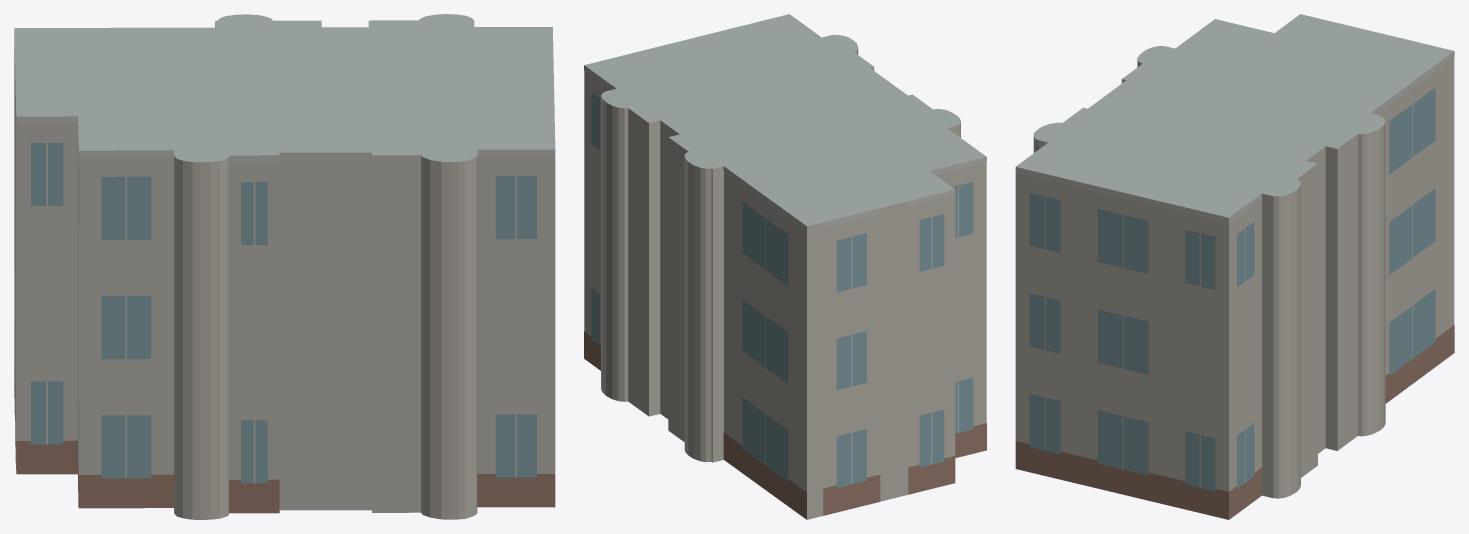
The model's file is survey-upis-32709496.glb.
The picture shows the model from 3 angles, left to right: view 1: azimuth 30°, elevation 25°; view 2: azimuth 150°, elevation 25°; view 3: azimuth 270°, elevation 25°; orthographic projection. The views are drawn at different scales.
Visible parts, largest first — view 1: survey-upis-32709496.tmp; view 2: survey-upis-32709496.tmp; view 3: survey-upis-32709496.tmp.
Part boxes in pixels (bbox=[...]): survey-upis-32709496.tmp: bbox=[14, 14, 555, 519]; survey-upis-32709496.tmp: bbox=[584, 14, 986, 519]; survey-upis-32709496.tmp: bbox=[1015, 14, 1454, 519].
Size of the model in its own units: 18.53 by 12.8 by 16.86.
